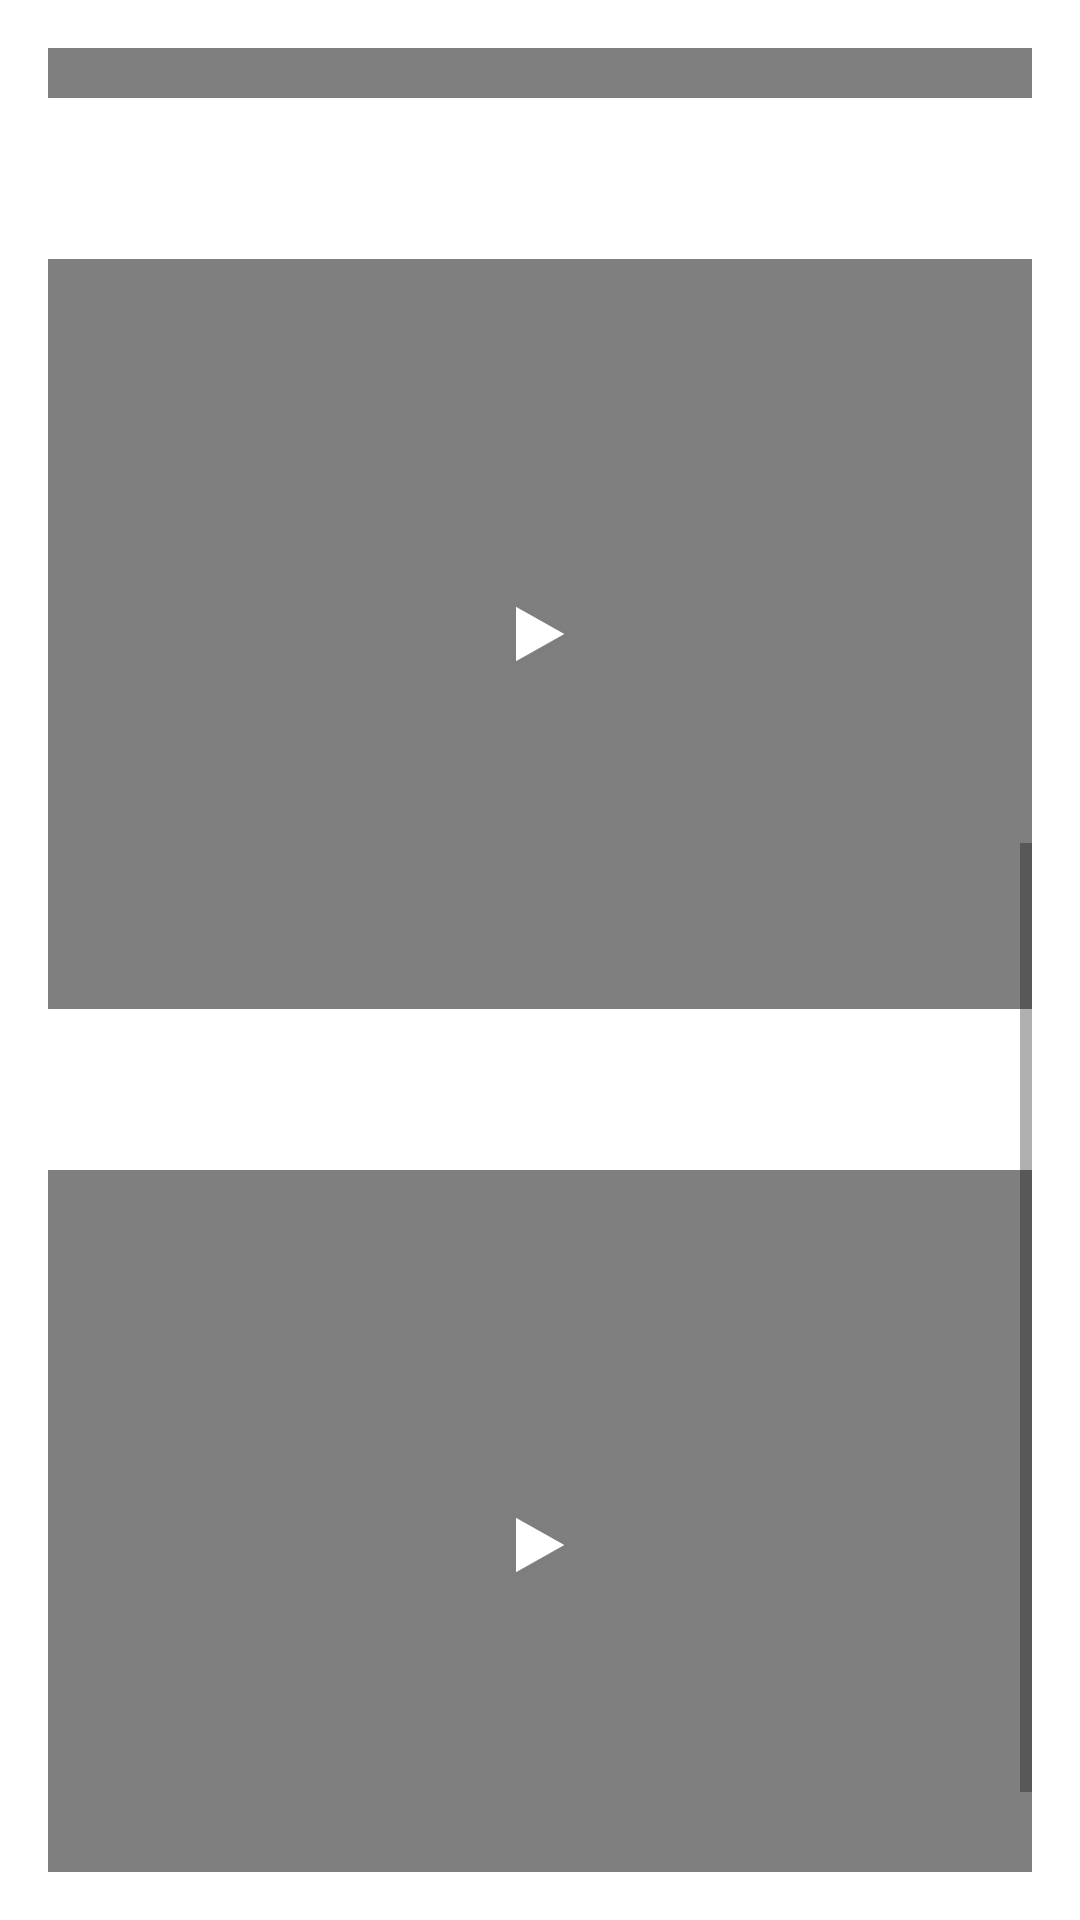

Locate icon controls on the screen. Image size 1080px x 1920px, boxes as (x1, y1, x2, y2).
play: (516, 607, 564, 661), (516, 1518, 564, 1572)
